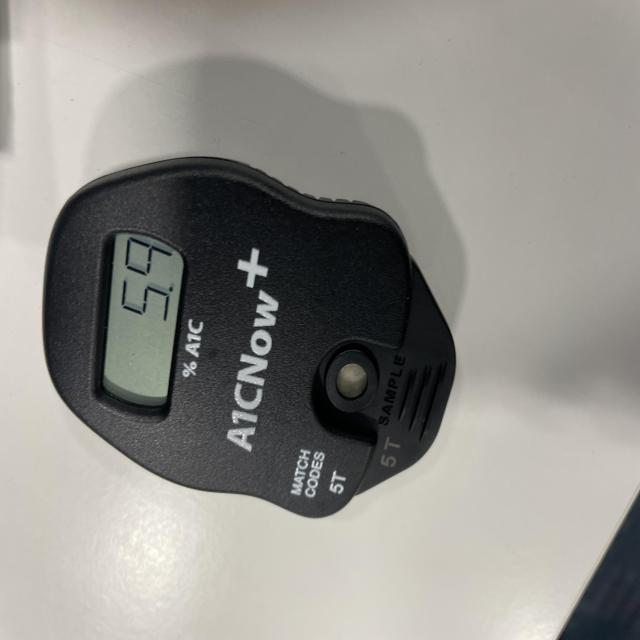hba1c: (40, 156, 459, 522)
